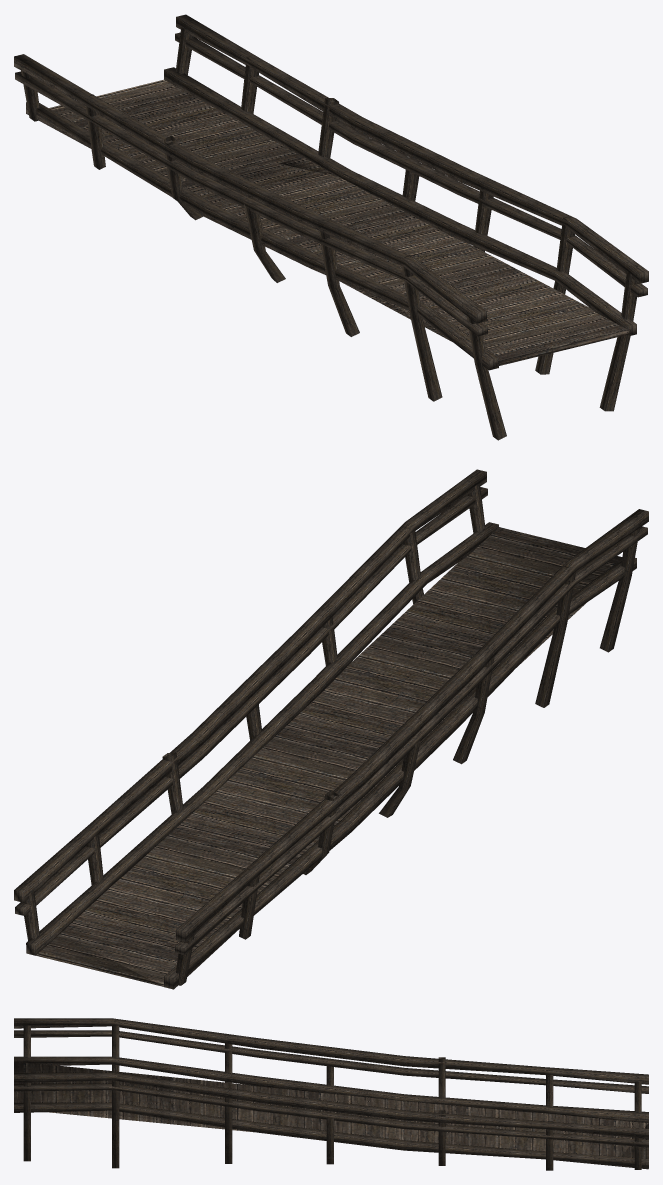
File: bridge up.FBX
The picture shows the model from 3 angles, top to bottom: view 1: azimuth 30°, elevation 25°; view 2: azimuth 150°, elevation 25°; view 3: azimuth 270°, elevation 25°; orthographic projection. The views are drawn at different scales.
Bounding box in the file's own units: 353 × 292 × 1647.
Materials: 1 (1 with a texture image).
